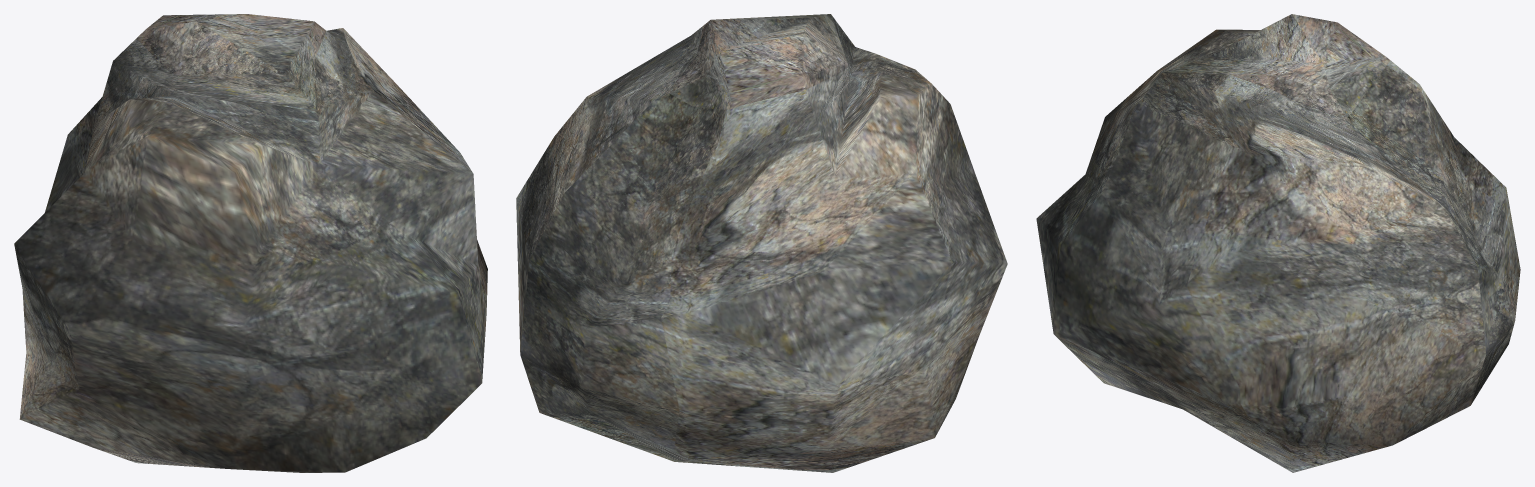
The model's file is rock.fbx.
3 renders of one model, left to right at view 1: azimuth 30°, elevation 25°; view 2: azimuth 150°, elevation 25°; view 3: azimuth 270°, elevation 25°, orthographic. The views are drawn at different scales.
Parts seen in each view (by area): view 1: wall; view 2: wall; view 3: wall.
Part boxes in pixels (x1,y1,x2,y2): wall: (14, 14, 487, 472); wall: (516, 14, 1007, 472); wall: (1036, 14, 1520, 472).
Bounding box in the file's own units: 246 × 233 × 260.
